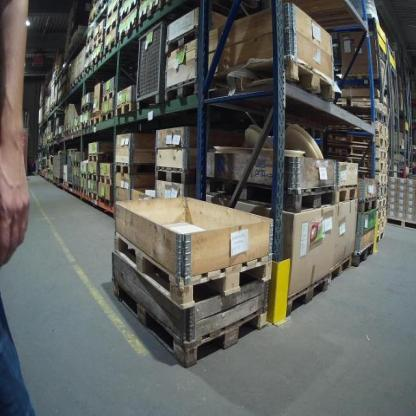pallet: (112, 283, 268, 369), (113, 231, 272, 310), (209, 55, 334, 104), (206, 175, 336, 214), (285, 276, 330, 318), (164, 28, 200, 54), (163, 79, 199, 104), (155, 165, 198, 184), (329, 255, 354, 285), (138, 0, 165, 27), (114, 161, 156, 174), (354, 242, 374, 266), (118, 1, 138, 24), (119, 17, 137, 42), (387, 216, 416, 231), (336, 183, 357, 203), (102, 34, 119, 56), (116, 100, 133, 119), (357, 196, 377, 211), (104, 18, 118, 39), (102, 86, 116, 104), (88, 152, 113, 162), (106, 2, 118, 22), (89, 51, 102, 69), (81, 100, 94, 114), (102, 109, 114, 123), (93, 27, 103, 43), (89, 114, 101, 127), (377, 161, 388, 175), (85, 43, 94, 60), (87, 11, 97, 26), (99, 174, 111, 186), (93, 37, 102, 53), (377, 175, 388, 188), (378, 139, 391, 150), (380, 126, 391, 139), (376, 232, 385, 246), (87, 172, 99, 182), (86, 31, 94, 46), (376, 200, 386, 212), (376, 151, 388, 161), (97, 1, 106, 14), (376, 211, 385, 223), (84, 62, 92, 75), (88, 190, 98, 200), (379, 188, 388, 199), (69, 79, 76, 91), (378, 223, 384, 237), (81, 119, 89, 129), (76, 72, 83, 83), (80, 188, 88, 197), (74, 125, 81, 133), (72, 161, 80, 168), (69, 127, 74, 135), (64, 124, 69, 132), (81, 173, 87, 178)
stillage: (132, 22, 168, 115), (65, 147, 76, 188)
